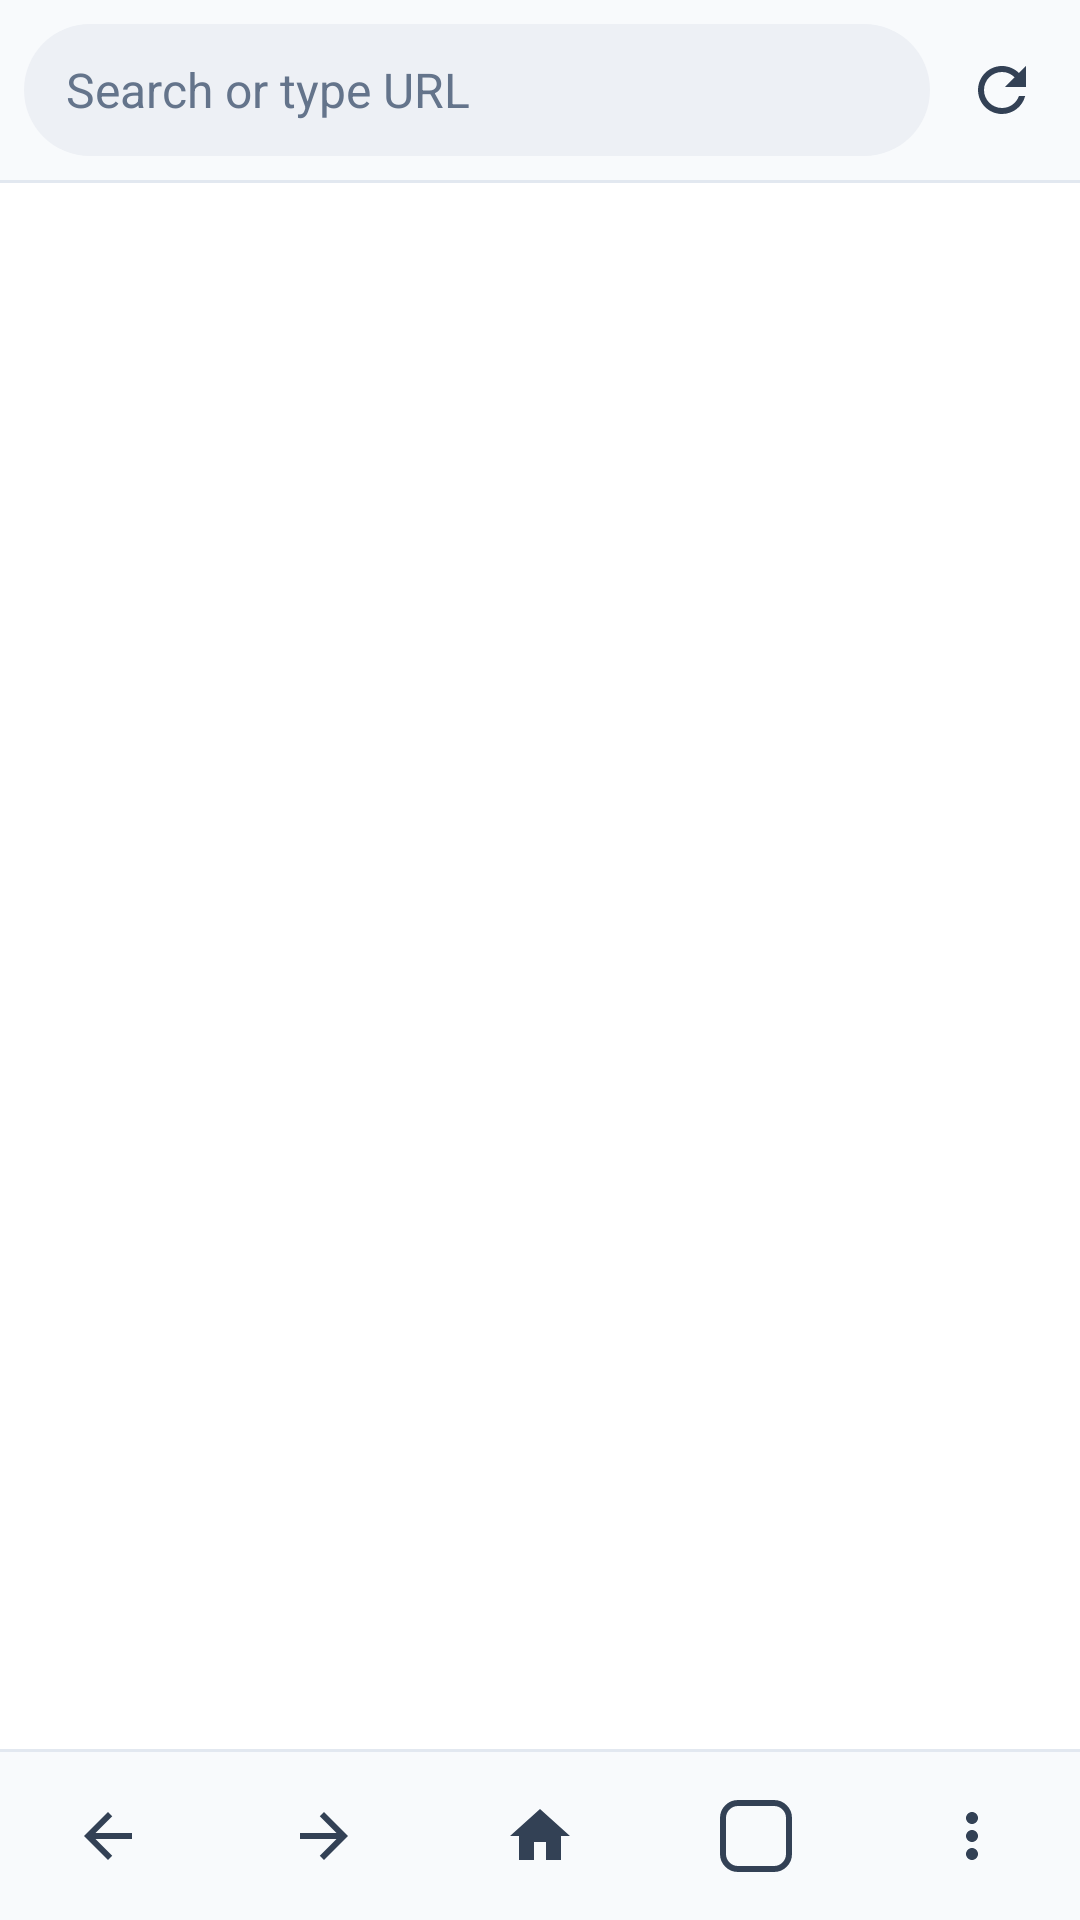

Icons on this 1080px×1920px Android screen, each with its box as region(x1, y1, x2, y2):
Back: region(84, 1812, 132, 1860)
Forward: region(300, 1812, 348, 1860)
Home: region(510, 1809, 570, 1860)
Menu: region(966, 1812, 978, 1860)
Reload: region(978, 66, 1026, 114)
